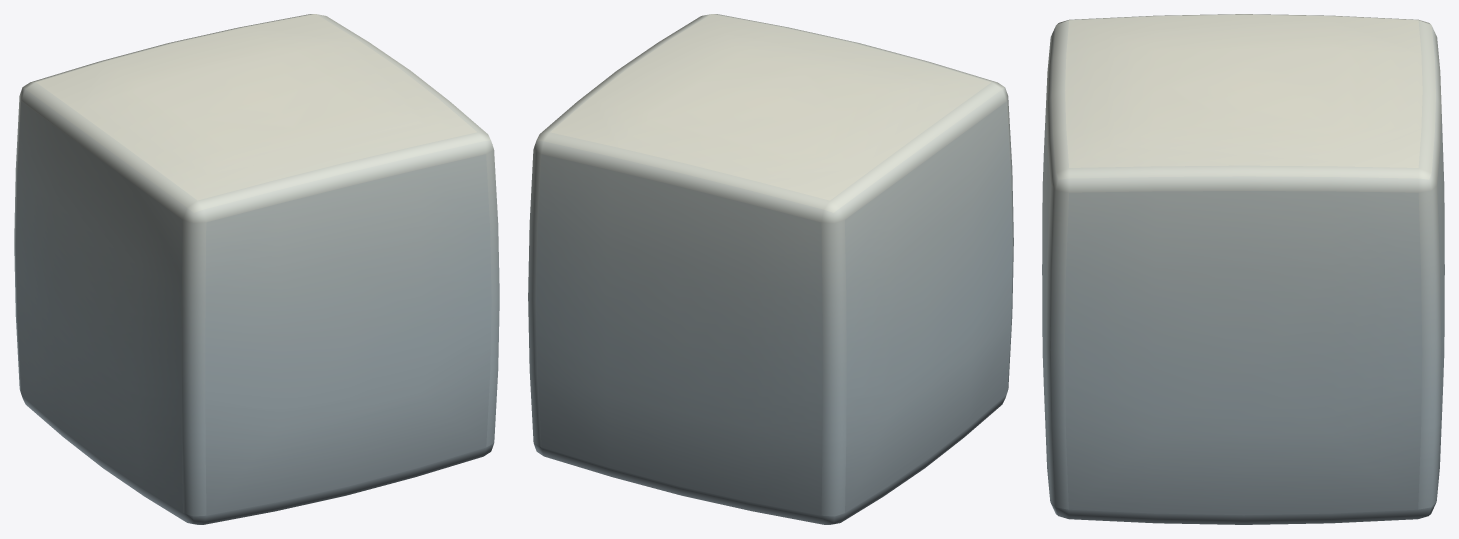
Rendered from Quartz_Plain_Light.fbx.
3 renders of one model, left to right at view 1: azimuth 30°, elevation 25°; view 2: azimuth 150°, elevation 25°; view 3: azimuth 270°, elevation 25°, orthographic. The views are drawn at different scales.
Parts seen in each view (by area): view 1: Quartz_Plain_Light_LOD0; view 2: Quartz_Plain_Light_LOD0; view 3: Quartz_Plain_Light_LOD0.
Boxes of the visible parts, <box> form: Quartz_Plain_Light_LOD0: <box>14,14,499,524</box>; Quartz_Plain_Light_LOD0: <box>528,14,1013,524</box>; Quartz_Plain_Light_LOD0: <box>1042,14,1444,524</box>.
Size of what is drawn, in the model's own units: 1.09 by 1.09 by 1.09.
